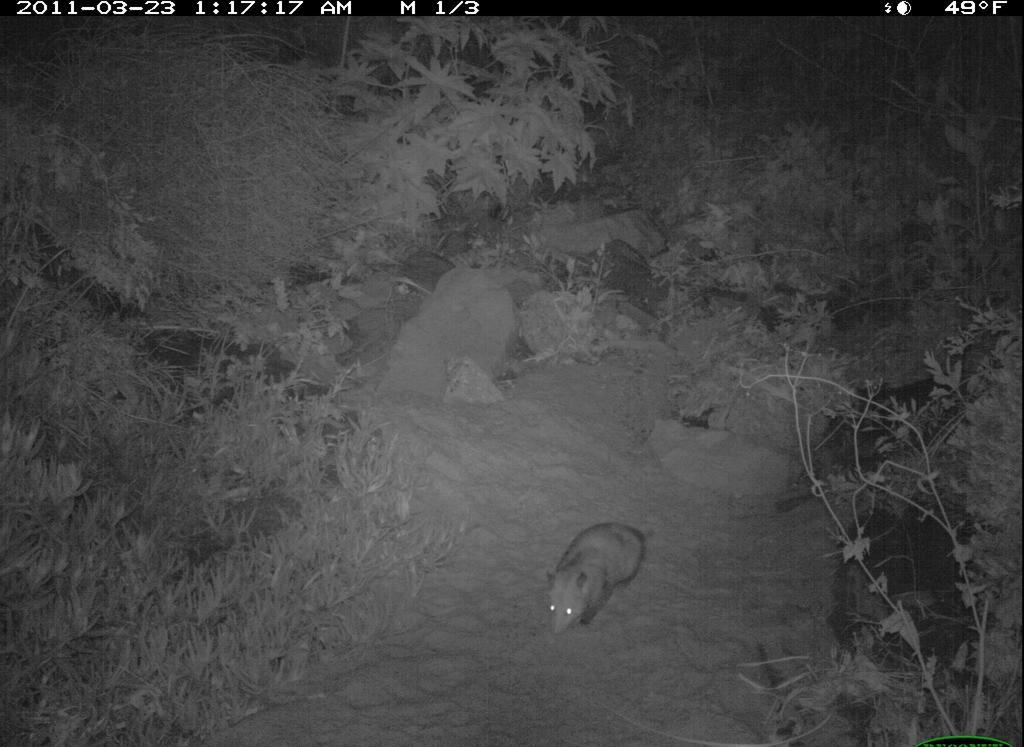opossum: (539, 516, 655, 642)
